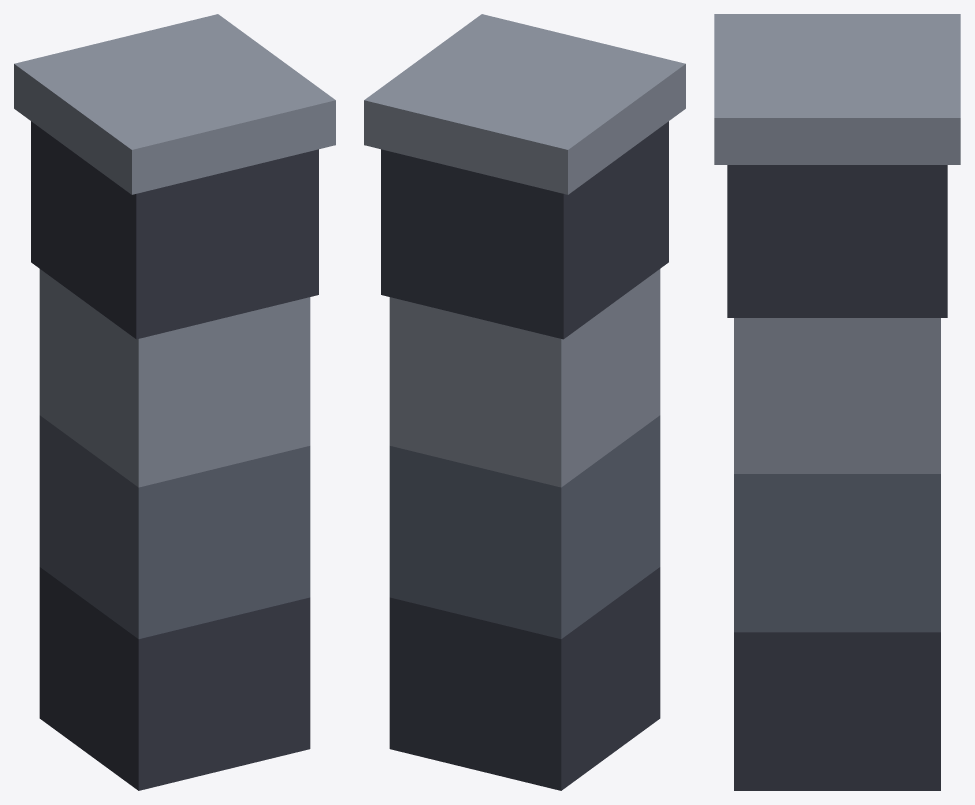
Rendered from TW_STONE_END_CAP_B_LOD0.glb.
3 views of the same model, side by side, from view 1: azimuth 30°, elevation 25°; view 2: azimuth 150°, elevation 25°; view 3: azimuth 270°, elevation 25° (orthographic). The views are drawn at different scales.
Visible parts, largest first — view 1: TW_STONE_END_CAP_B_LOD0; view 2: TW_STONE_END_CAP_B_LOD0; view 3: TW_STONE_END_CAP_B_LOD0.
Part boxes in pixels (x1,y1,x2,y2): TW_STONE_END_CAP_B_LOD0: (14,14,335,790); TW_STONE_END_CAP_B_LOD0: (364,14,685,790); TW_STONE_END_CAP_B_LOD0: (714,14,960,790).
Bounding box in the file's own units: 0.38 × 1.16 × 0.38.
1 material, 1 textured.
